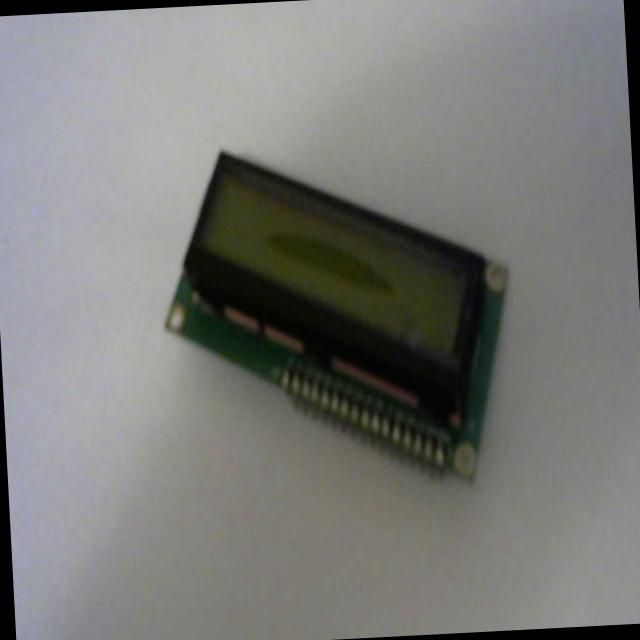lcd: (139, 106, 529, 520)
